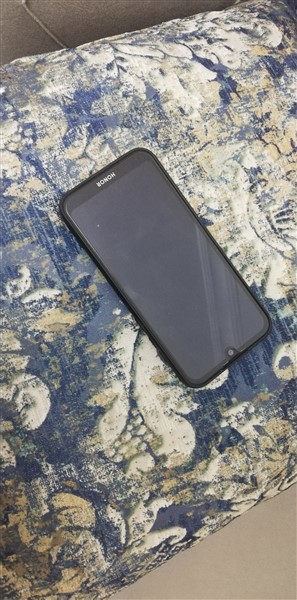telefon: (59, 147, 276, 392)
